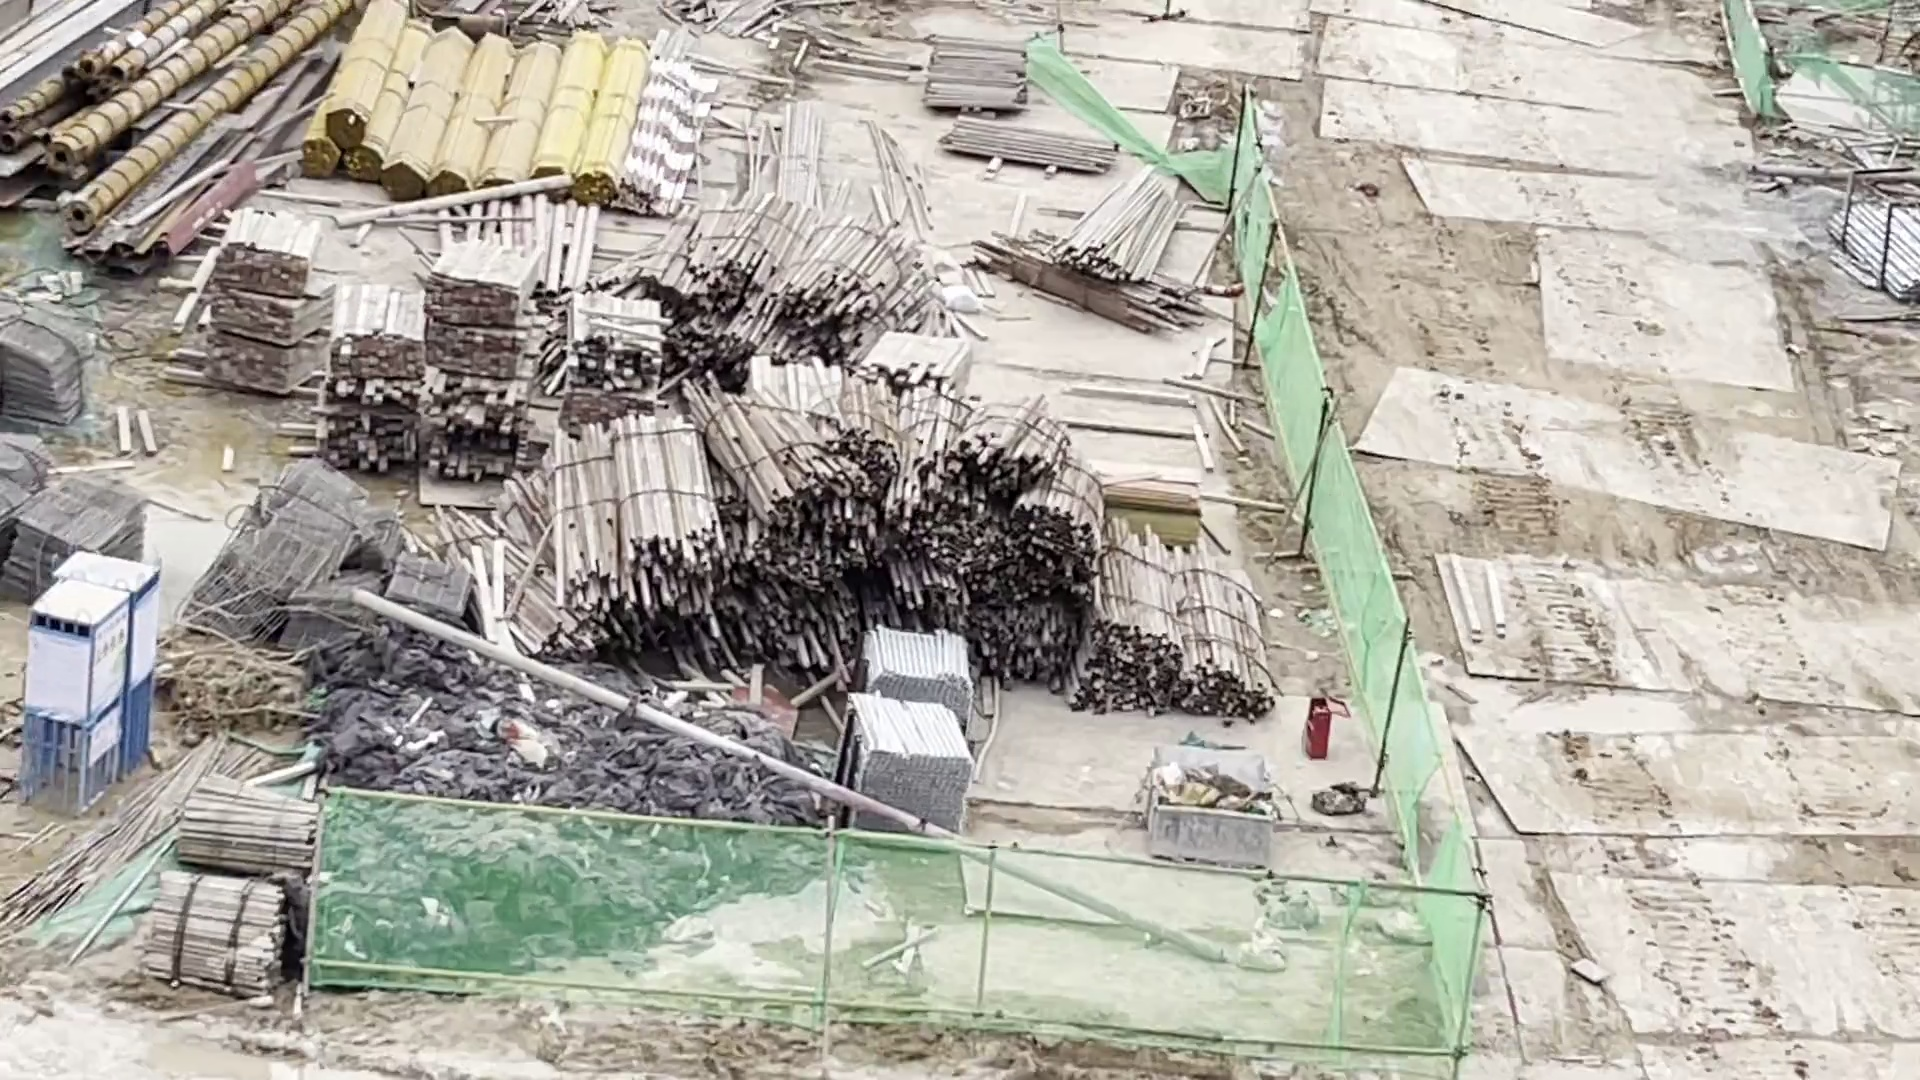hopper: (1146, 746, 1276, 872)
scaffold: (855, 622, 975, 843), (1828, 196, 1920, 305)
wood: (199, 200, 667, 483)
